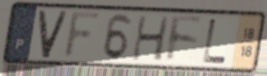6: (101, 13, 133, 62)
F: (61, 10, 105, 61), (165, 14, 205, 65)
H: (130, 14, 171, 63)
L: (201, 17, 229, 65)
V: (37, 9, 70, 61)
